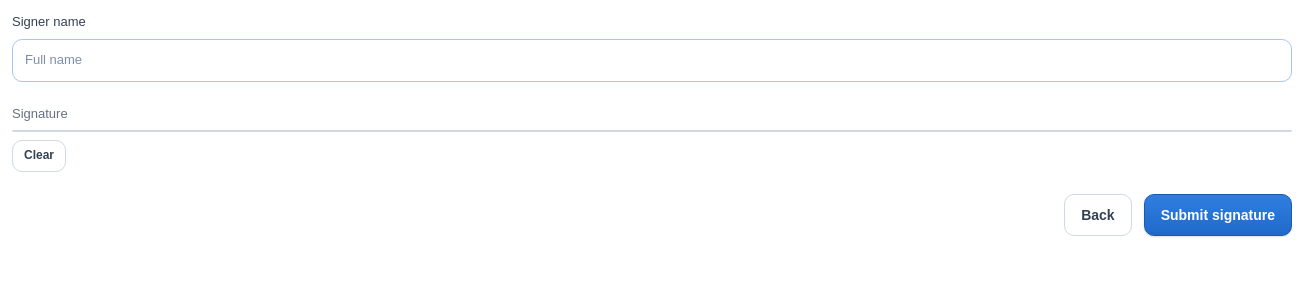
it: Signature pad › asks for a name before saving
The image size is (1304, 298).
Click the button "Submit signature": click(1218, 215) [1144, 194, 1292, 236]
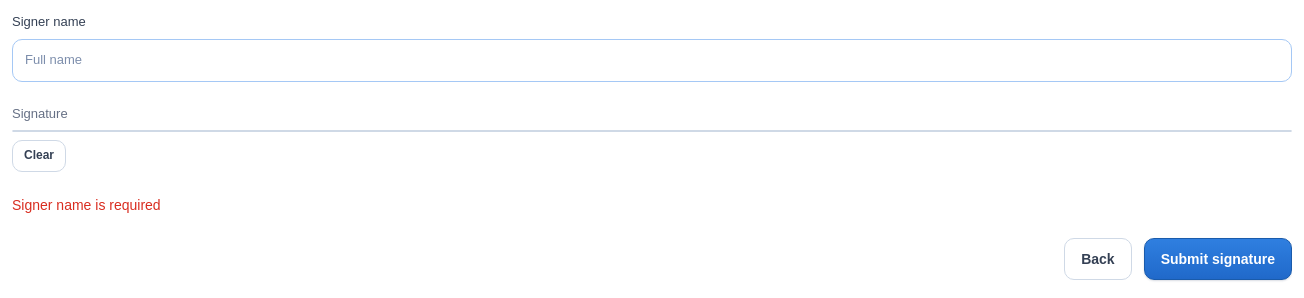
Check: the message reads "Signer name is required", box [12, 197, 161, 213]
